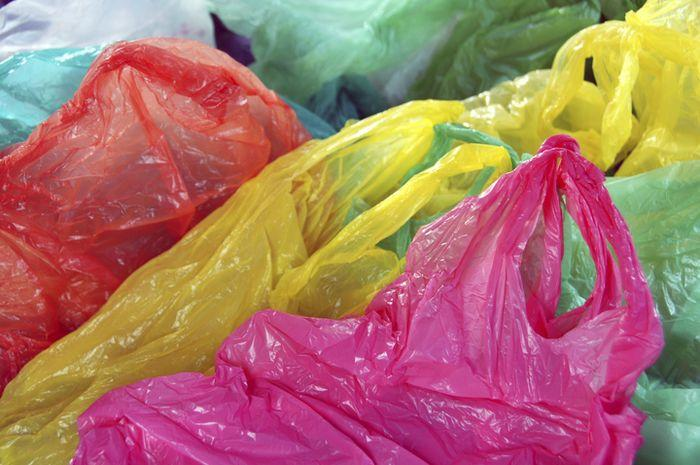LDPE: (254, 183, 642, 465), (0, 45, 253, 306), (468, 0, 700, 175), (220, 0, 602, 99), (641, 176, 700, 465)
